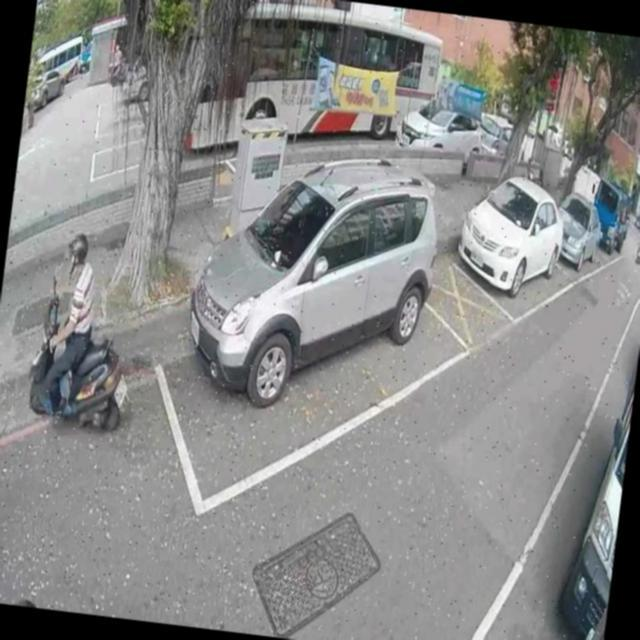person: (34, 227, 106, 432), (109, 41, 123, 84), (9, 593, 42, 608), (637, 223, 640, 244)
